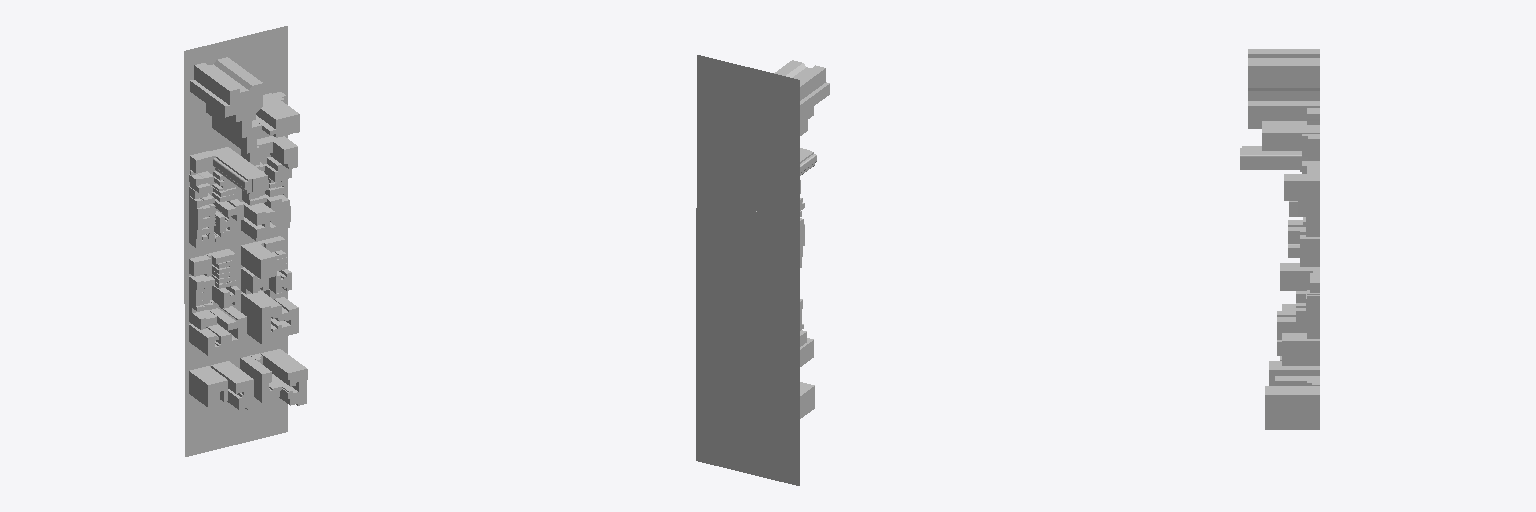
File: manhattan.obj
The picture shows the model from 3 angles: view 1: azimuth 30°, elevation 25°; view 2: azimuth 150°, elevation 25°; view 3: azimuth 270°, elevation 25°; orthographic projection.
Visible parts, largest first — view 1: map_2.osm_buildings, Plane; view 2: Plane, map_2.osm_buildings; view 3: map_2.osm_buildings.
Boxes of the visible parts, box(x1,y1,x2,y2) form: map_2.osm_buildings: box(189, 57, 307, 409); Plane: box(184, 26, 287, 456); Plane: box(696, 55, 799, 485); map_2.osm_buildings: box(756, 60, 829, 418); map_2.osm_buildings: box(1240, 49, 1319, 429).
Size of the model in its own units: 161 by 600 by 106.